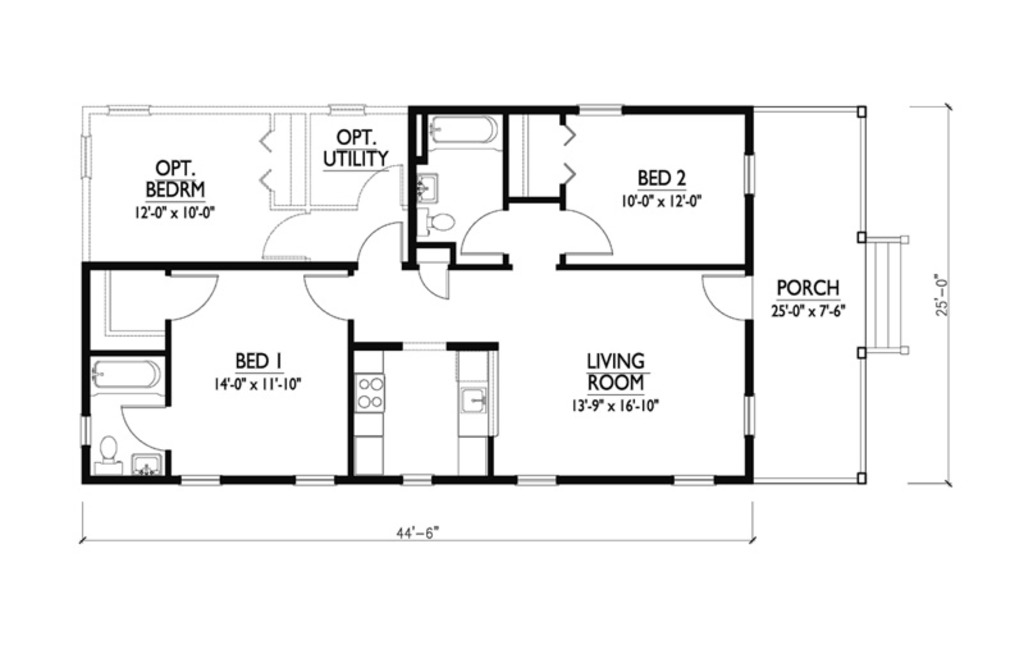door: (698, 270, 756, 322), (166, 274, 227, 322), (297, 274, 354, 323), (560, 208, 614, 255), (462, 208, 511, 259), (259, 208, 307, 259), (357, 162, 405, 212), (354, 219, 405, 265), (410, 261, 451, 303)
large_sink: (415, 201, 455, 239), (93, 434, 125, 476)
small_sink: (127, 451, 165, 481), (413, 172, 445, 206)
stairs: (864, 236, 908, 353)
tub: (84, 353, 164, 398), (425, 112, 504, 150)
windows: (742, 150, 761, 199), (739, 393, 758, 442), (666, 472, 716, 490), (577, 103, 628, 120), (398, 472, 435, 490), (511, 472, 558, 486), (175, 475, 223, 488), (294, 473, 339, 486), (329, 100, 364, 115)
